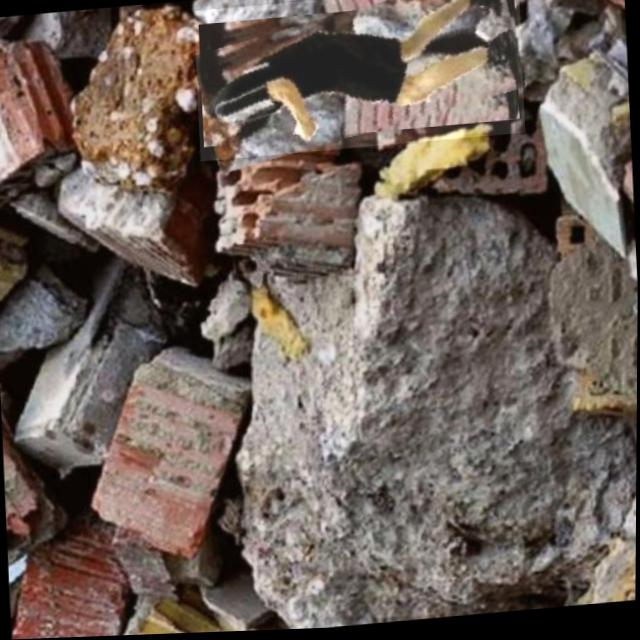Person in Rubble: (193, 0, 526, 162)
